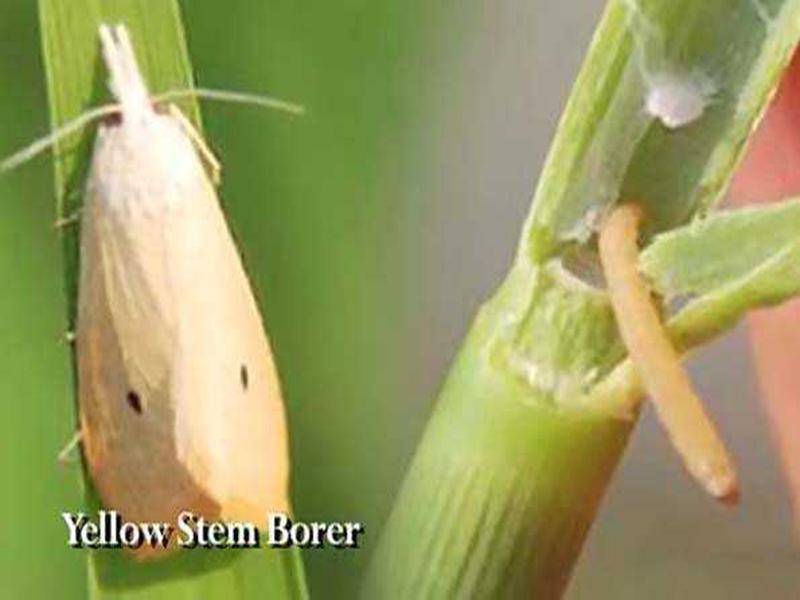Rice_skipper: (57, 41, 308, 510), (584, 194, 749, 523)
